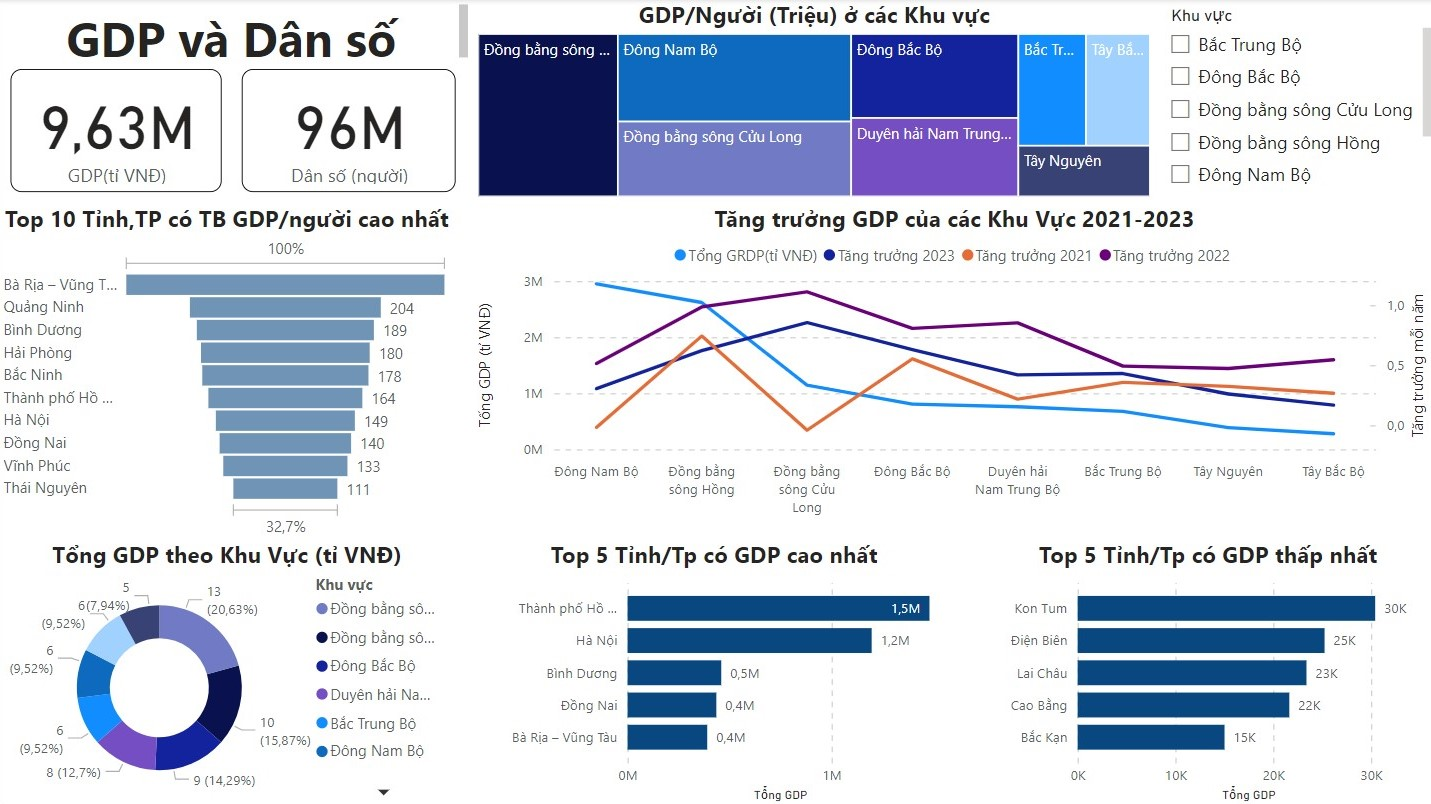

This screenshot's page, from the dashboard's own definition file:
{"tool":"powerbi","page":{"name":"Page 1","canvas":[1280,720],"ordinal":0},"visuals":[{"type":"card","fields":{"Values":["Sum(DS Tinh.Tổng GRDP(tỉ VNĐ))"]},"box":[10.9,62.7,188.1,109.7],"z":0},{"type":"card","fields":{"Values":["Sum(DS Tinh.Dân số (người))"]},"box":[217.1,62.7,190.6,109.7],"z":1000},{"type":"lineChart","title":"Tăng trưởng GDP của các Khu Vực 2021-2023","fields":{"Y":["Sum(DS Tinh.Tổng GRDP(tỉ VNĐ))"],"Y2":["Sum(DS Tinh.Tăng trưởng 2023)","Sum(DS Tinh.Tăng trưởng 2021)","Sum(DS Tinh.Tăng trưởng 2022)"],"Category":["DS Tinh.Khu vực"]},"box":[423.3,180.9,857.5,300.3],"z":2000},{"type":"donutChart","title":"Tổng GDP theo Khu Vực (tỷ VNĐ)","fields":{"Category":["DS Tinh.Khu vực"],"Y":["CountNonNull(DS Tinh.Tổng GRDP(tỉ VNĐ))"]},"box":[0,481.2,407.6,238.8],"z":3000},{"type":"barChart","title":"Top 5 Tỉnh/Tp có GDP cao nhất","fields":{"Category":["DS Tinh.Tên tỉnh, thành phố"],"Y":["Sum(DS Tinh.Tổng GRDP(tỉ VNĐ))"]},"box":[423.3,481.2,429.3,238.8],"z":4000},{"type":"barChart","title":"Top 5 Tỉnh/Tp có GDP thấp nhất","fields":{"Category":["DS Tinh.Tên tỉnh, thành phố"],"Y":["Sum(DS Tinh.Tổng GRDP(tỉ VNĐ))"]},"box":[873.2,481.2,407.6,238.8],"z":5000},{"type":"slicer","fields":{"Values":["DS Tinh.Khu vực"]},"box":[1031.2,0,249.6,180.9],"z":6000},{"type":"textbox","box":[0,0,423.3,61.5],"z":7000},{"type":"treemap","title":"GDP/Người (Triệu) ở các Khu vực","fields":{"Group":["DS Tinh.Khu vực"],"Values":["Sum(DS Tinh.GDP/Người (Triệu))"]},"box":[423.3,0,607.8,180.9],"z":8000},{"type":"funnel","title":"Top 10 Tỉnh,TP có GDP/người cao nhất","fields":{"Category":["DS Tinh.Tên tỉnh, thành phố"],"Y":["Avg(DS Tinh.GDP/Người (Triệu))"]},"box":[0,180.9,407.6,301.5],"z":9000}]}

Visuals, with their boxes in screenshot pixels (x1, y1, x2, y2), scaled from the page's 1280x720 canvas onto the 1431x804 screenshot:
card - Sum(DS Tinh.Tổng GRDP(tỉ VNĐ)): {"x1": 12, "y1": 70, "x2": 222, "y2": 193}
card - Sum(DS Tinh.Dân số (người)): {"x1": 243, "y1": 70, "x2": 456, "y2": 193}
"Tăng trưởng GDP của các Khu Vực 2021-2023" lineChart: {"x1": 473, "y1": 202, "x2": 1430, "y2": 537}
"Tổng GDP theo Khu Vực (tỷ VNĐ)" donutChart: {"x1": 0, "y1": 537, "x2": 456, "y2": 803}
"Top 5 Tỉnh/Tp có GDP cao nhất" barChart: {"x1": 473, "y1": 537, "x2": 953, "y2": 803}
"Top 5 Tỉnh/Tp có GDP thấp nhất" barChart: {"x1": 976, "y1": 537, "x2": 1430, "y2": 803}
slicer - DS Tinh.Khu vực: {"x1": 1153, "y1": 0, "x2": 1430, "y2": 202}
textbox: {"x1": 0, "y1": 0, "x2": 473, "y2": 69}
"GDP/Người (Triệu) ở các Khu vực" treemap: {"x1": 473, "y1": 0, "x2": 1153, "y2": 202}
"Top 10 Tỉnh,TP có GDP/người cao nhất" funnel: {"x1": 0, "y1": 202, "x2": 456, "y2": 539}
